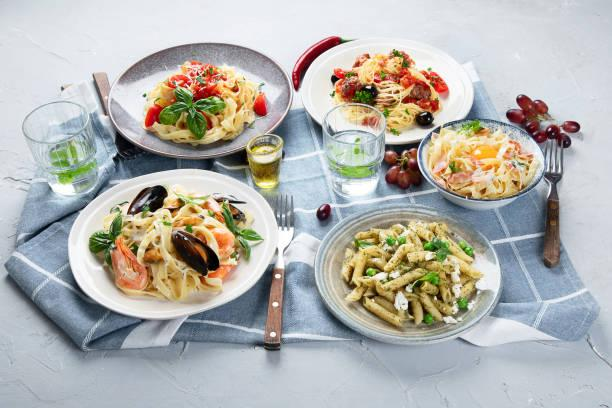Braised Crucian Carp: (67, 168, 273, 319), (314, 204, 500, 343), (107, 42, 289, 159), (298, 37, 471, 148), (417, 118, 545, 211)
